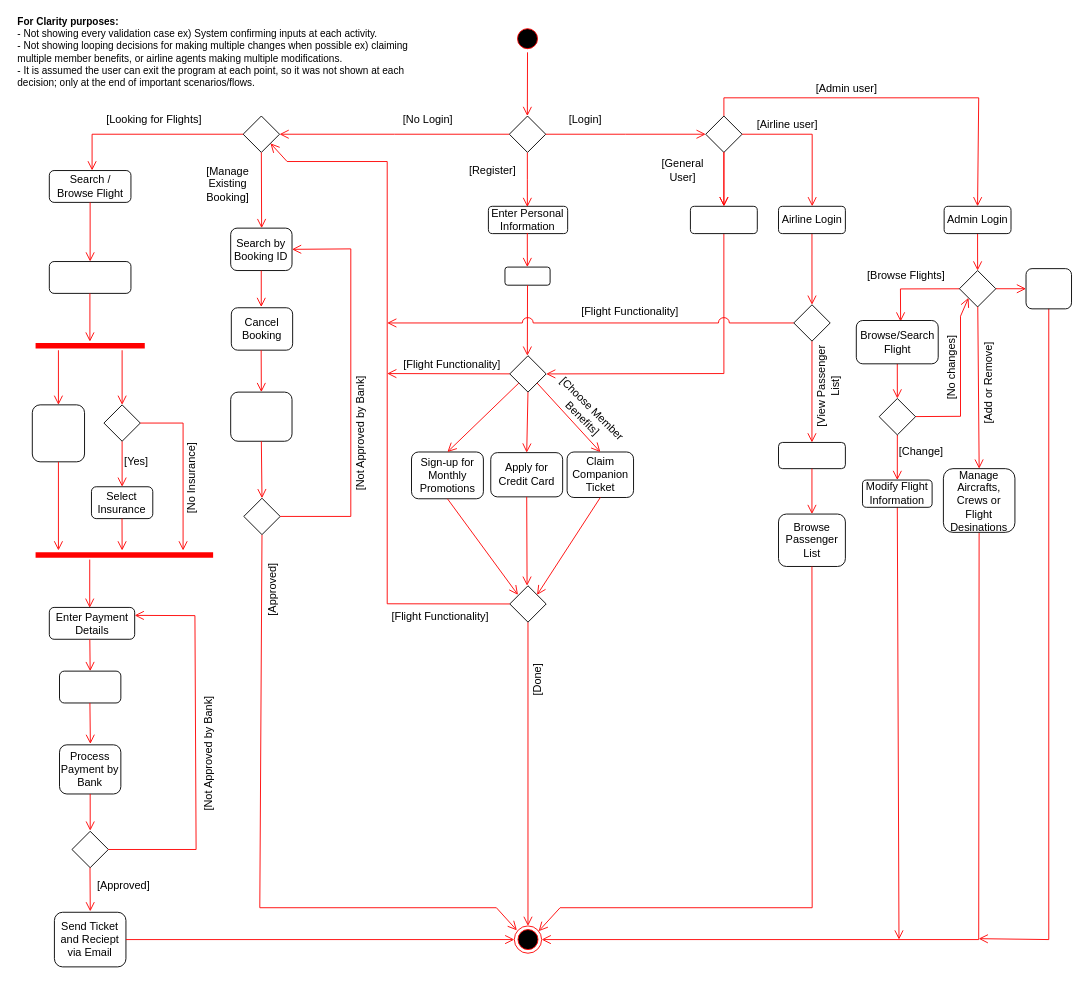
The diagram is 1087 pixels wide and 983 high, and some of its shapes have lost their labels. Each missing label, with the box of its shape:
Make Payment: (59, 670, 121, 703)
Print Member List: (1025, 268, 1072, 309)
Process Refund by Bank: (230, 391, 292, 441)
Register: (504, 266, 550, 285)
Search Flight: (778, 442, 845, 469)
Select Available Seat(s): (31, 404, 85, 462)
Select Flight: (48, 261, 131, 293)
User Login: (690, 205, 757, 234)
